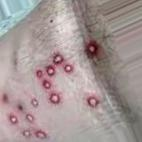Ants: (6, 111, 22, 128), (84, 93, 100, 109), (24, 111, 38, 129), (49, 51, 65, 66), (0, 93, 15, 108), (86, 40, 98, 56), (48, 91, 61, 104), (21, 128, 34, 141), (35, 128, 48, 139), (35, 68, 43, 79), (46, 65, 54, 75), (42, 80, 50, 89), (64, 64, 73, 72), (31, 98, 38, 107)
